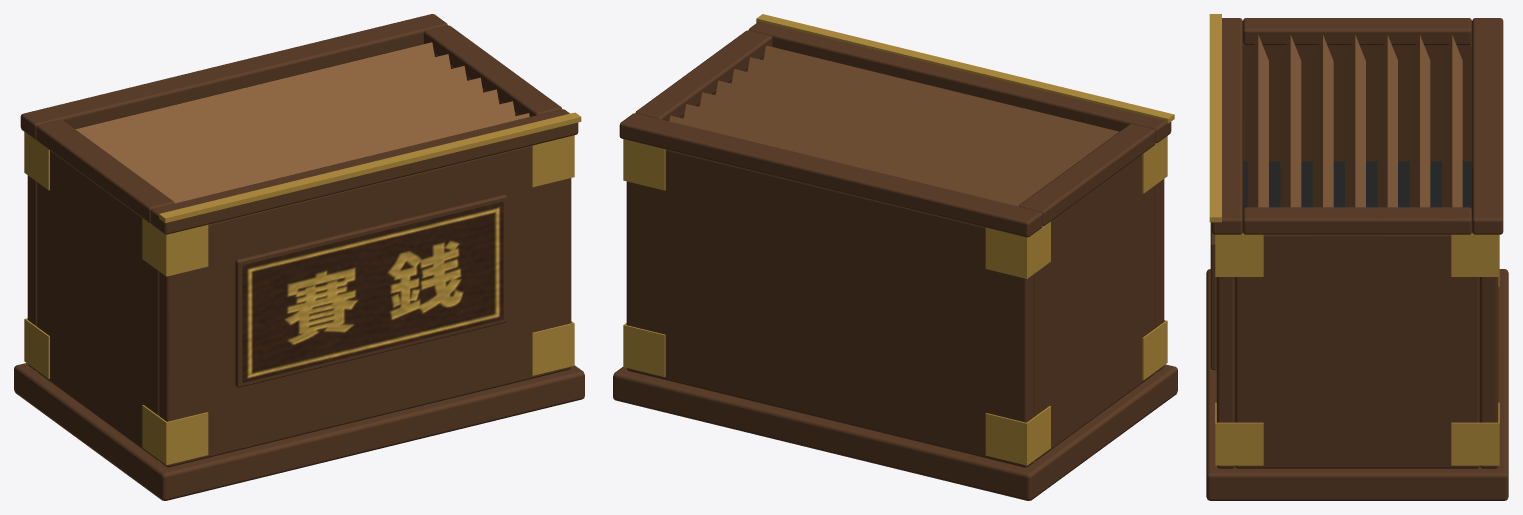
Rendered from saisen_box.fbx.
3 renders of one model, left to right at view 1: azimuth 30°, elevation 25°; view 2: azimuth 150°, elevation 25°; view 3: azimuth 270°, elevation 25°, orthographic.
Visible parts, largest first — view 1: saisen_box; view 2: saisen_box; view 3: saisen_box.
Part boxes in pixels (box(x1,y1,x2,y2)): saisen_box: box(14, 14, 584, 500); saisen_box: box(613, 14, 1177, 500); saisen_box: box(1206, 14, 1508, 500).
Bounding box in the file's own units: 0.94 × 0.6 × 0.58.
Materials: 5 (1 with a texture image).
